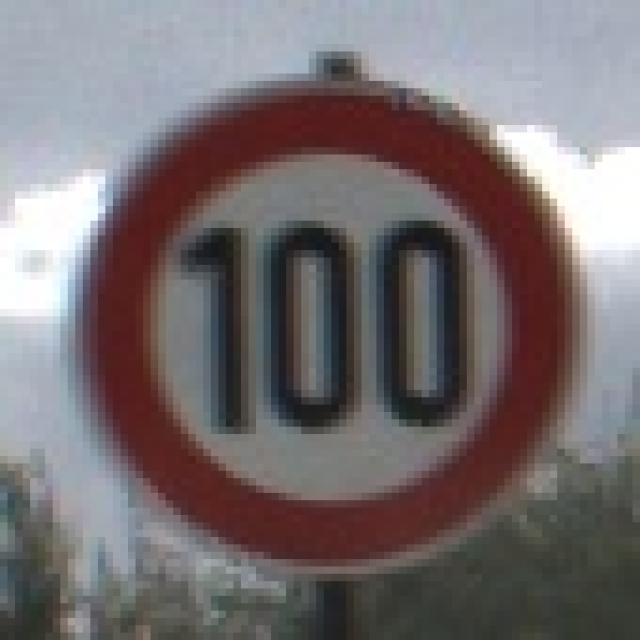speed limit 100: (79, 80, 582, 573)
